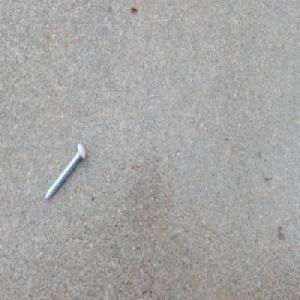Nail: (43, 140, 87, 202)
